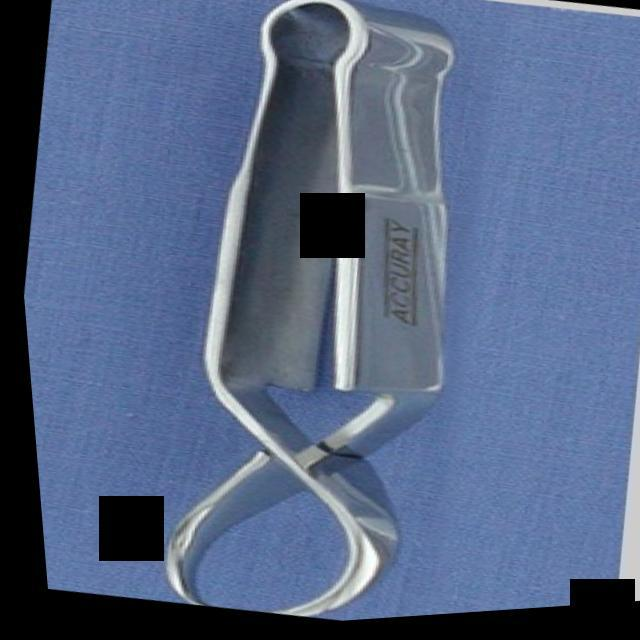Doyen Cross Action Towel Clamp: (95, 0, 528, 635)
